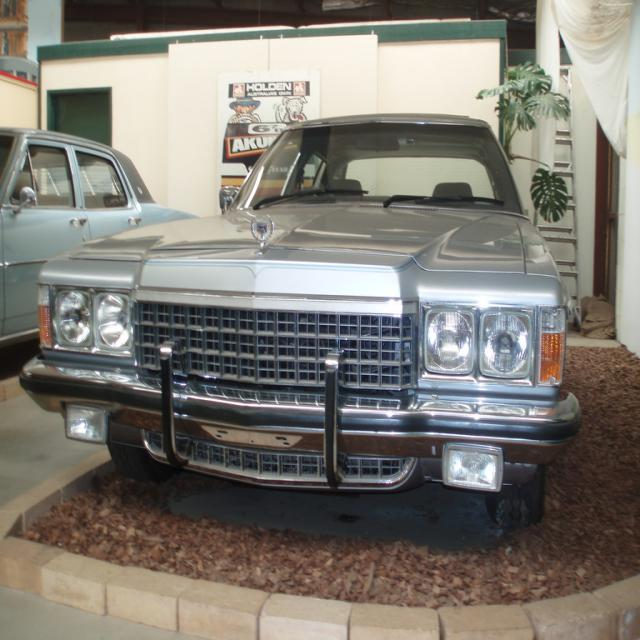car: (17, 110, 578, 522)
